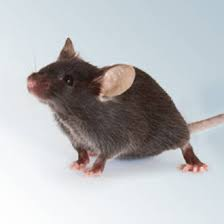mice: (25, 32, 224, 178)
